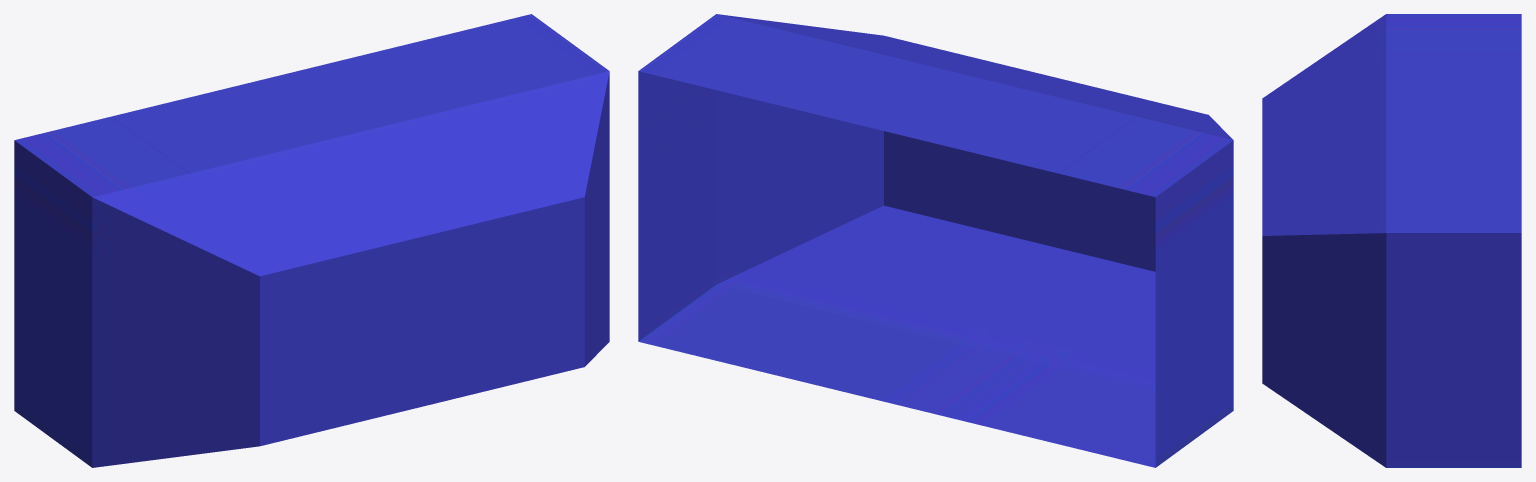
Rendered from BlockBlue.fbx.
3 renders of one model, left to right at view 1: azimuth 30°, elevation 25°; view 2: azimuth 150°, elevation 25°; view 3: azimuth 270°, elevation 25°, orthographic. The views are drawn at different scales.
Parts seen in each view (by area): view 1: BlockBlue; view 2: BlockBlue; view 3: BlockBlue.
Part boxes in pixels (left/top/right/bottom): BlockBlue: left=14, top=14, right=609, bottom=467; BlockBlue: left=638, top=14, right=1233, bottom=467; BlockBlue: left=1262, top=14, right=1521, bottom=467.
Bounding box in the file's own units: 108 × 54.18 × 54.18.
Materials: 1 (1 with a texture image).
